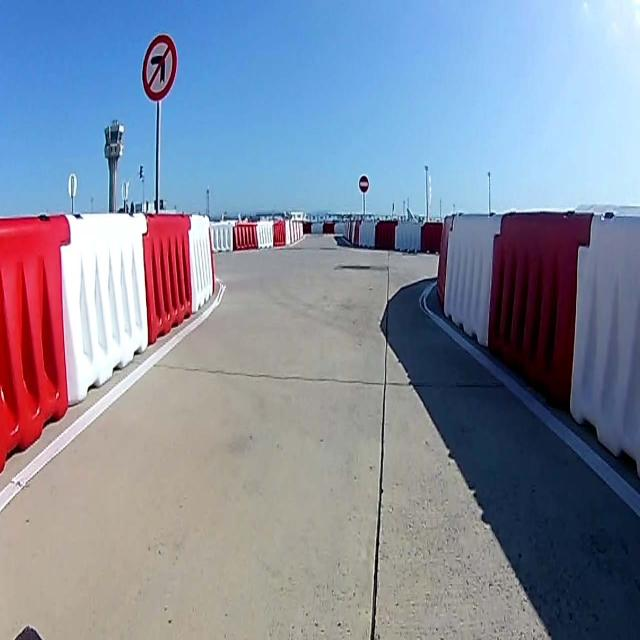girisyok: (358, 172, 368, 194)
soladonulmez: (141, 34, 177, 98)
